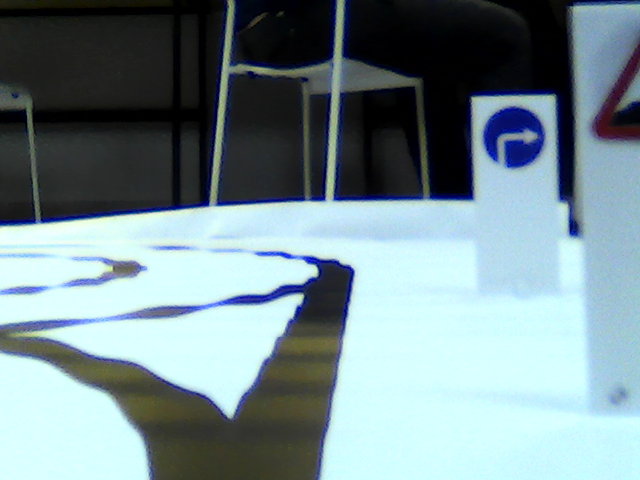Right: (485, 105, 541, 167)
